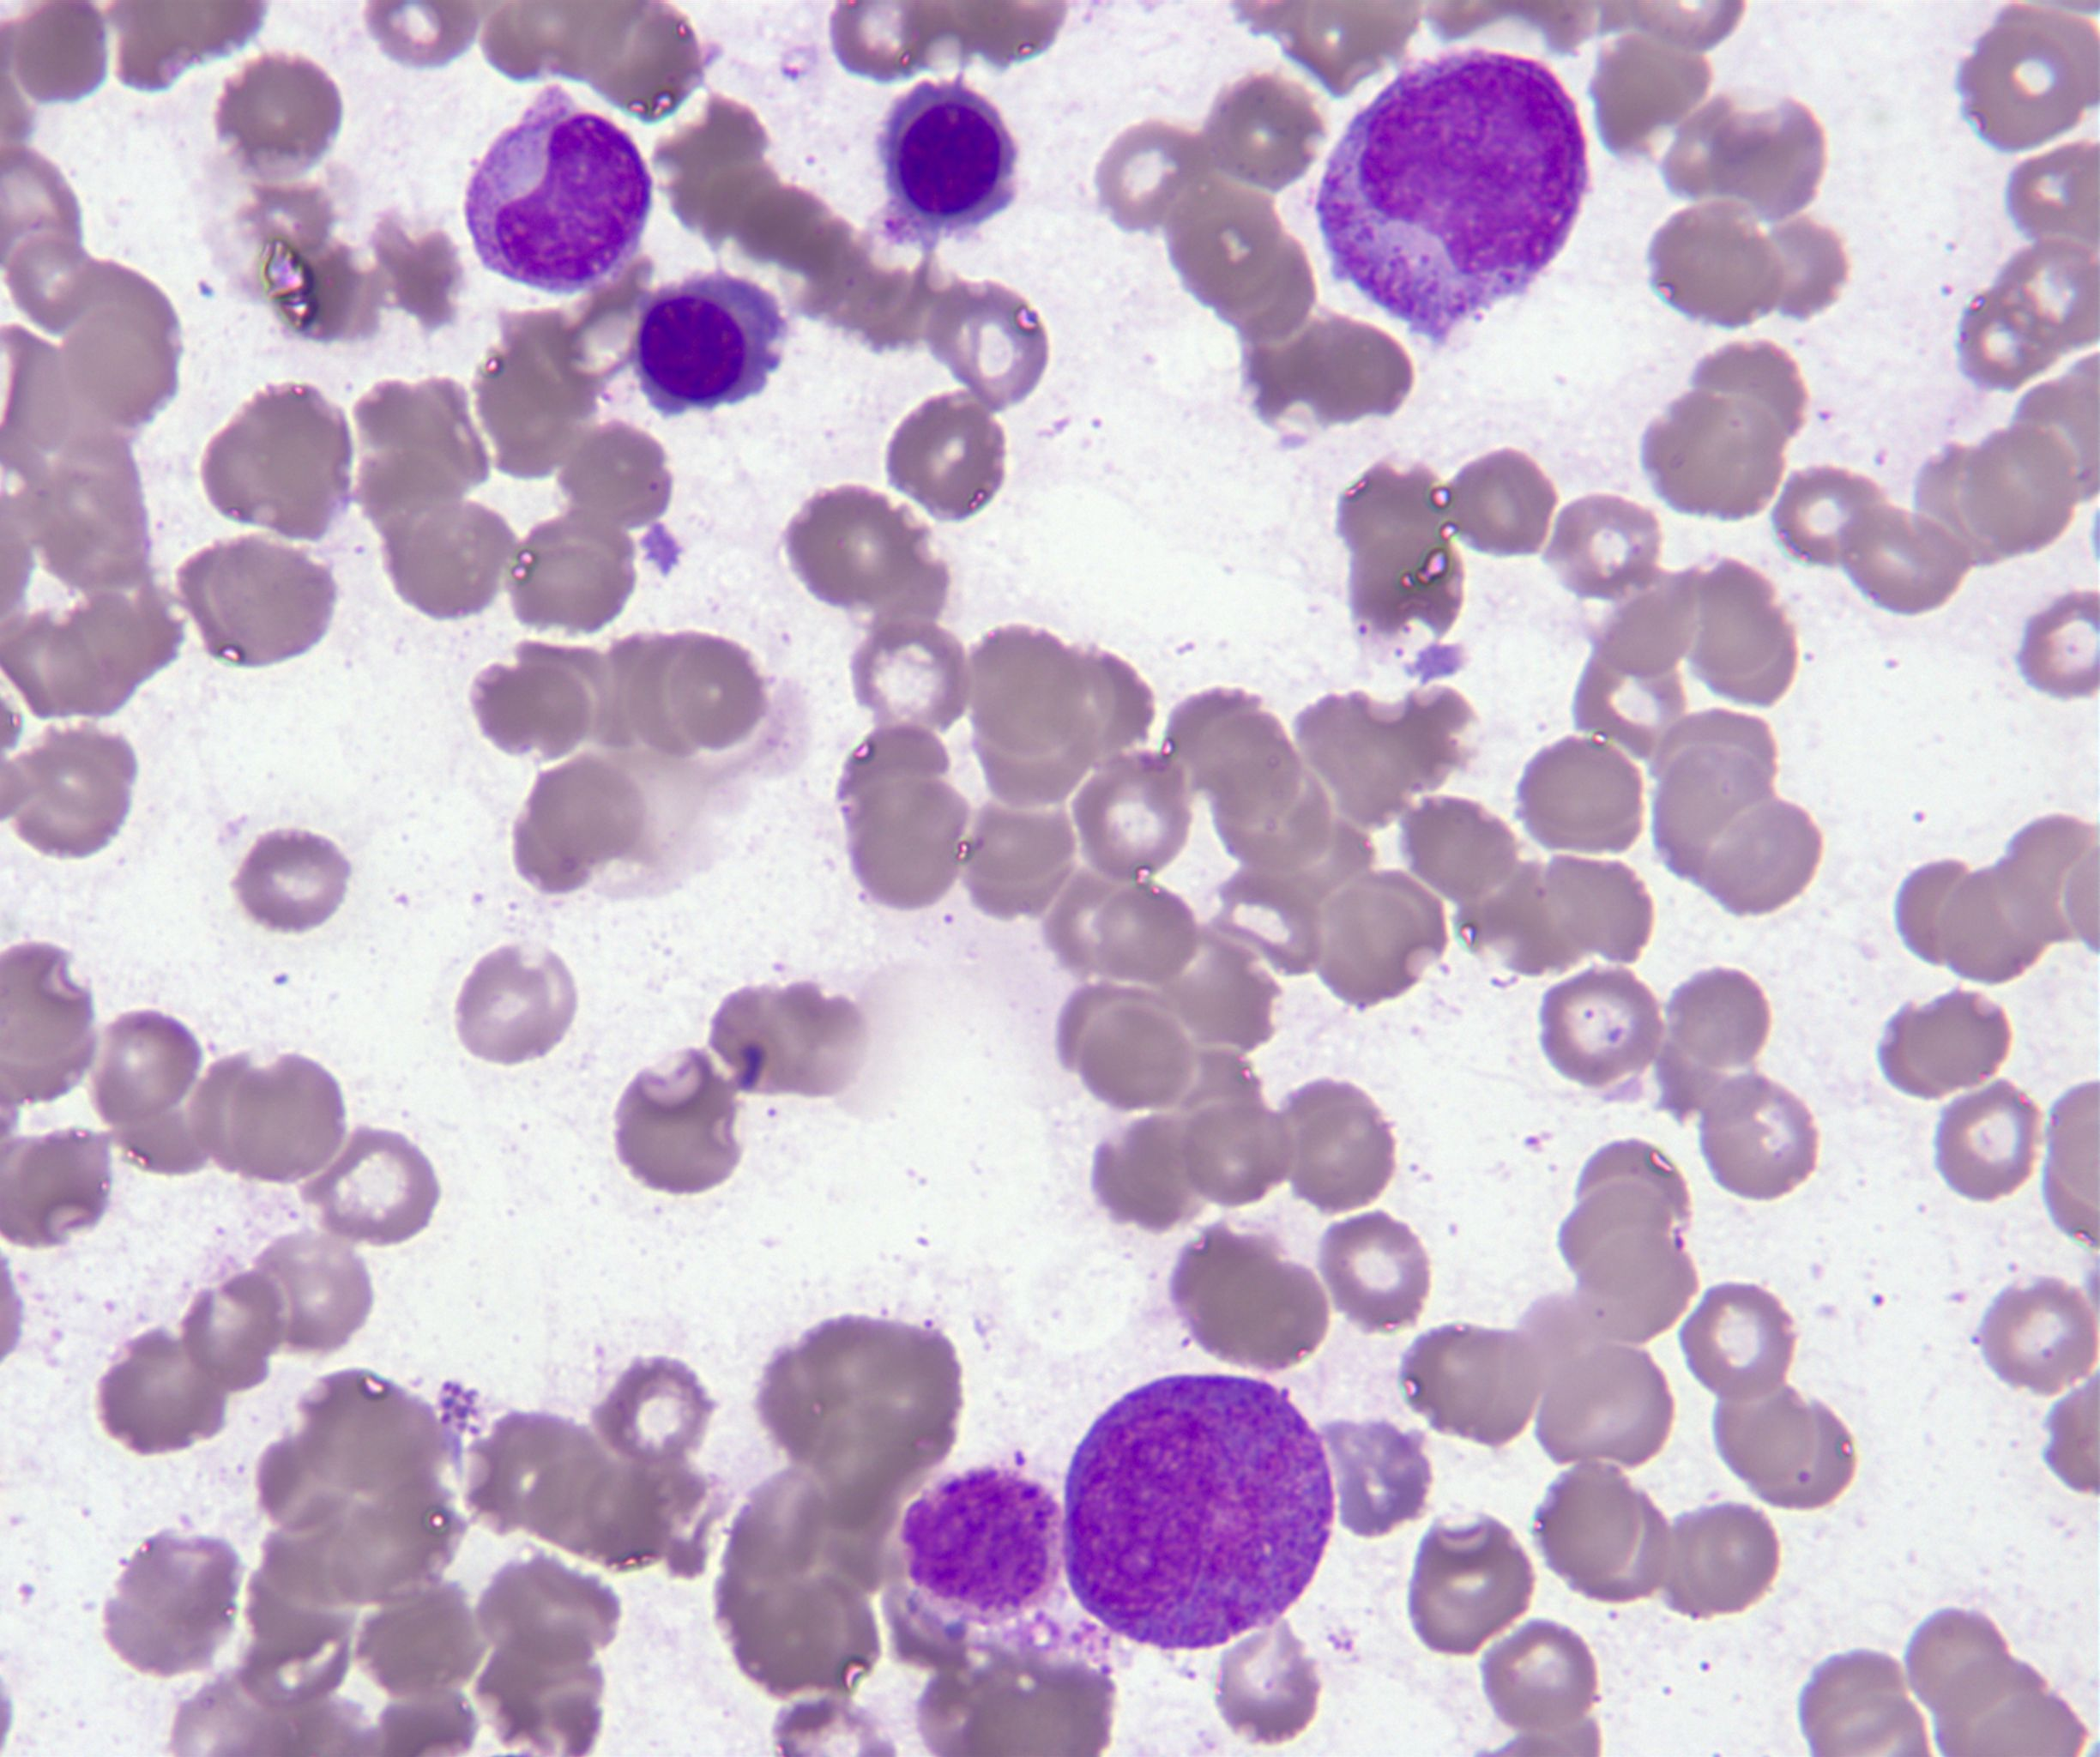2: (1062, 1375, 1334, 1649)
22: (630, 269, 787, 417), (877, 80, 1017, 244)
3: (1313, 51, 1585, 340)
4: (464, 84, 651, 297)
x: (900, 1466, 1066, 1623)
